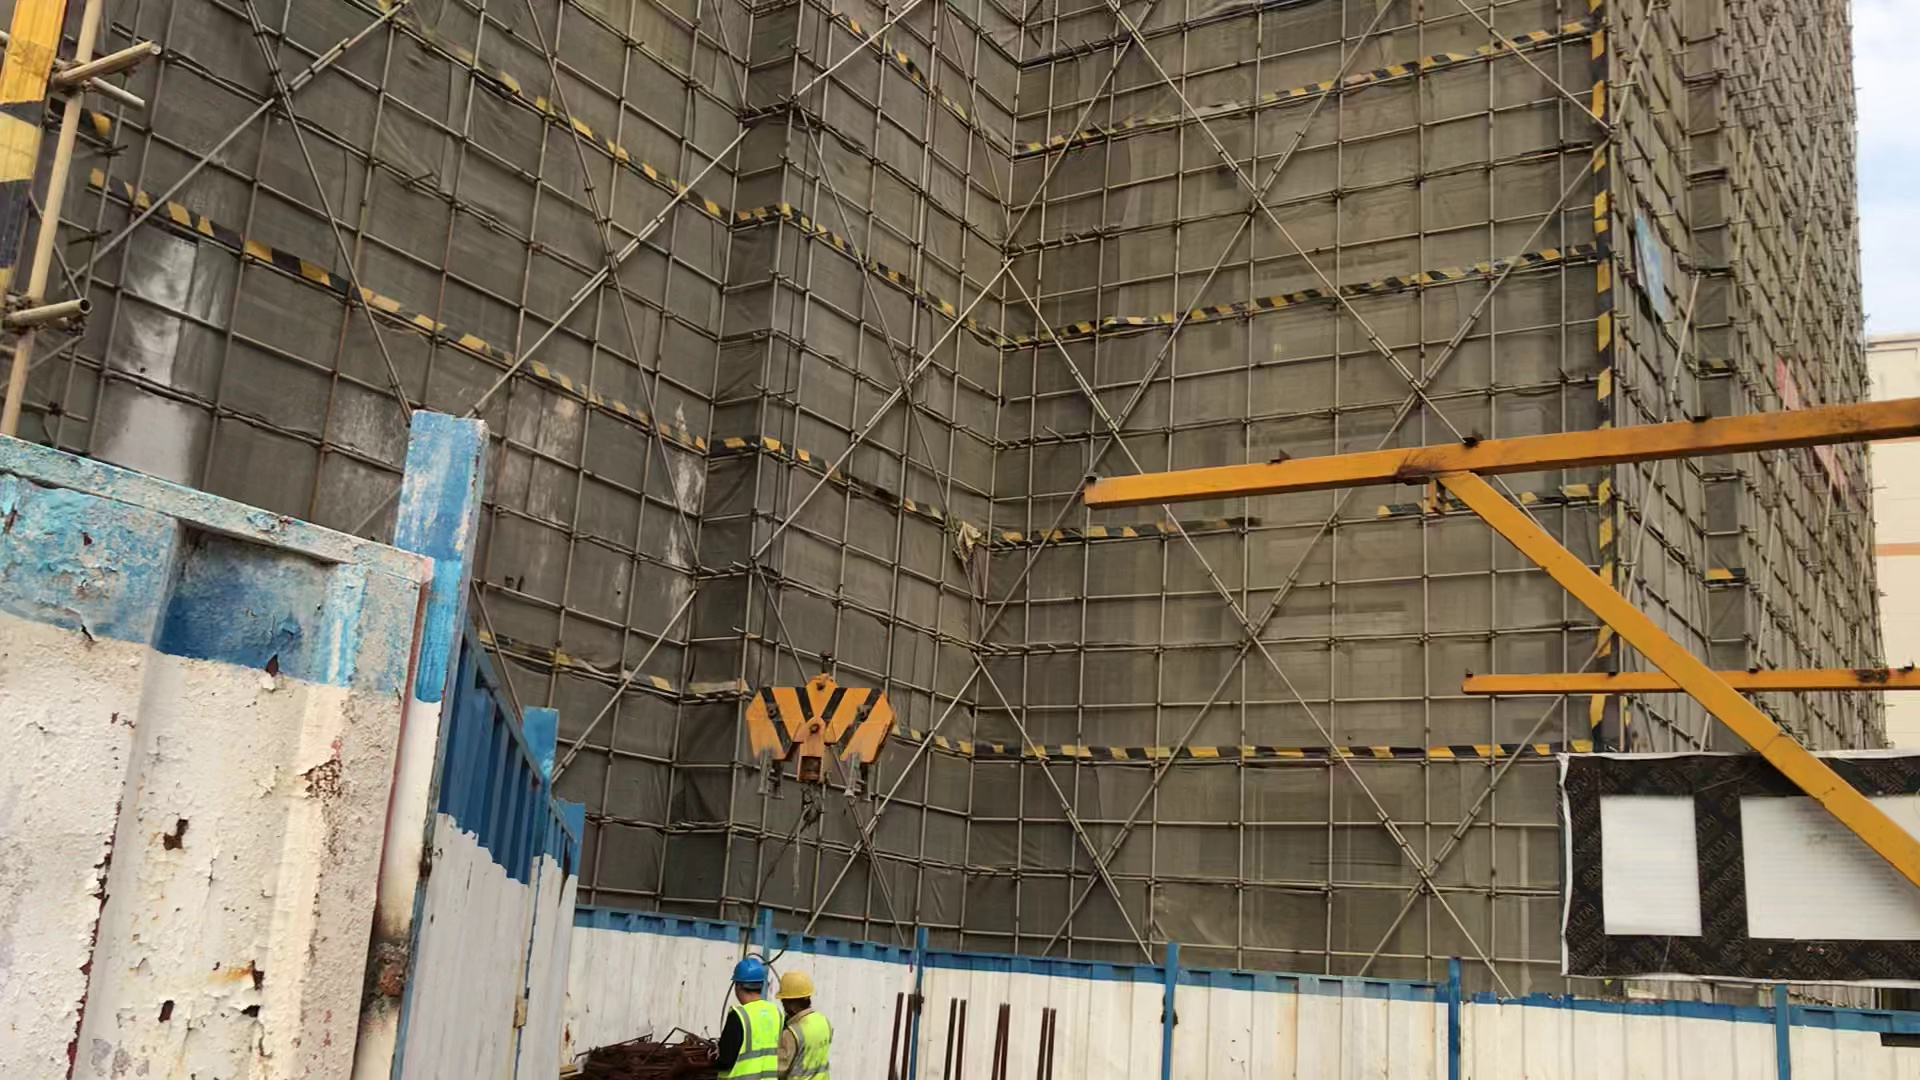helmet: (779, 971, 814, 998), (732, 959, 766, 982)
hook: (735, 679, 894, 828)
person: (715, 953, 784, 1080), (777, 979, 836, 1080)
vest: (731, 998, 779, 1078), (794, 1013, 834, 1077)
